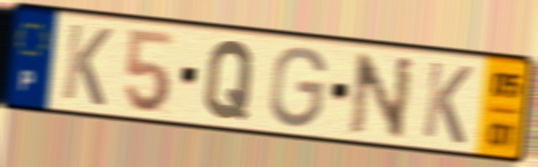5: (122, 24, 177, 116)
G: (266, 43, 330, 131)
K: (58, 20, 115, 110), (419, 58, 476, 148)
N: (347, 50, 418, 143)
Q: (201, 37, 258, 123)
